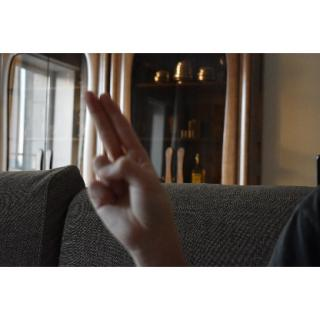TA: (74, 86, 180, 256)
